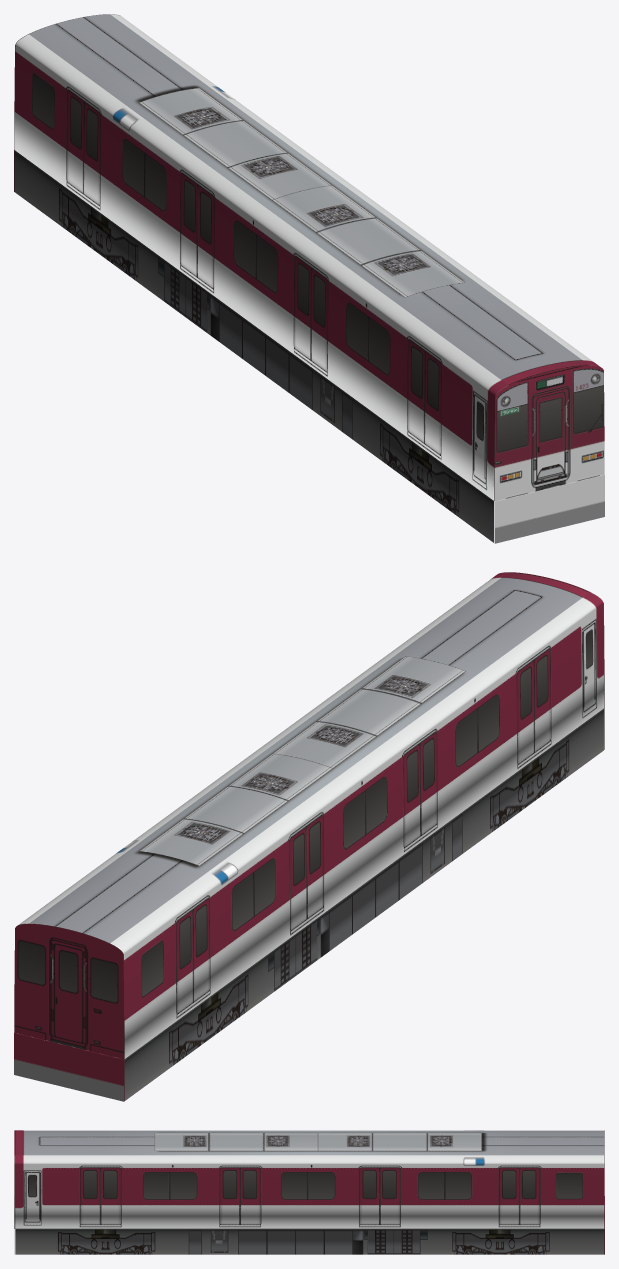
File: car1.glb
3 views of the same model, one above another, from view 1: azimuth 30°, elevation 25°; view 2: azimuth 150°, elevation 25°; view 3: azimuth 270°, elevation 25° (orthographic). The views are drawn at different scales.
Visible parts, largest first — view 1: kintetsu-1440-car1; view 2: kintetsu-1440-car1; view 3: kintetsu-1440-car1.
Part boxes in pixels (x1,y1,x2,y2): kintetsu-1440-car1: [14, 14, 604, 543]; kintetsu-1440-car1: [14, 572, 604, 1101]; kintetsu-1440-car1: [14, 1130, 604, 1254].
Size of the model in its own units: 2.74 by 3.77 by 20.75.
Materials: 8 (7 with a texture image).
